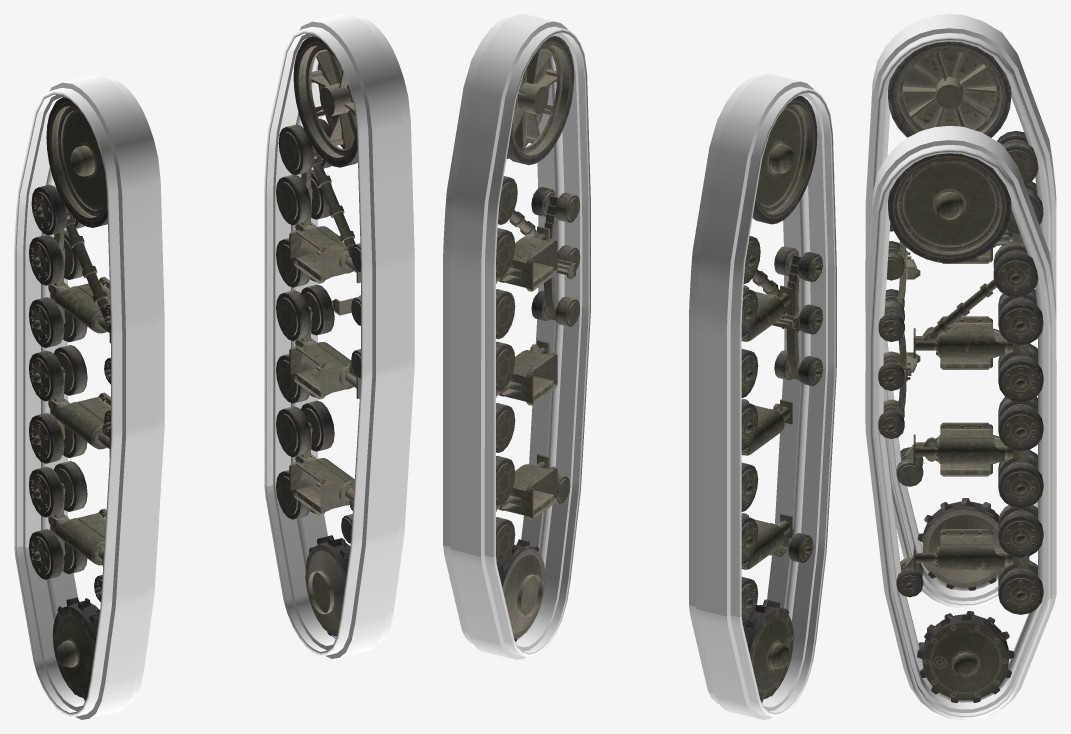
Rendered from Chassis.glb.
3 renders of one model, left to right at view 1: azimuth 30°, elevation 25°; view 2: azimuth 150°, elevation 25°; view 3: azimuth 270°, elevation 25°, orthographic. The views are drawn at different scales.
Visible parts, largest first — view 1: set_1_group_0, set_0_group_0, set_3_group_0, set_2_group_0; view 2: set_1_group_0, set_0_group_0, set_3_group_0, set_2_group_0; view 3: set_3_group_0, set_0_group_0, set_2_group_0, set_1_group_0.
Part boxes in pixels (x1=…): set_1_group_0: x1=14, y1=75, x2=164, y2=719; set_0_group_0: x1=264, y1=14, x2=414, y2=658; set_3_group_0: x1=276, y1=36, x2=361, y2=636; set_2_group_0: x1=29, y1=97, x2=110, y2=701; set_1_group_0: x1=689, y1=74, x2=836, y2=719; set_0_group_0: x1=443, y1=14, x2=590, y2=659; set_3_group_0: x1=496, y1=36, x2=580, y2=641; set_2_group_0: x1=741, y1=96, x2=823, y2=702; set_3_group_0: x1=878, y1=153, x2=1043, y2=703; set_0_group_0: x1=865, y1=126, x2=1056, y2=719; set_2_group_0: x1=885, y1=41, x2=1043, y2=590; set_1_group_0: x1=865, y1=14, x2=1056, y2=607.
Size of the model in its own units: 1.77 by 3.55 by 1.06.
4 materials, 2 textured.
